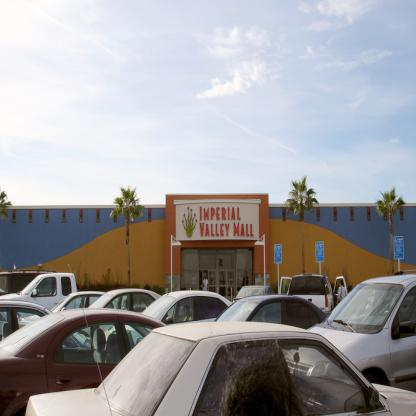Car: (0, 272, 416, 416)
